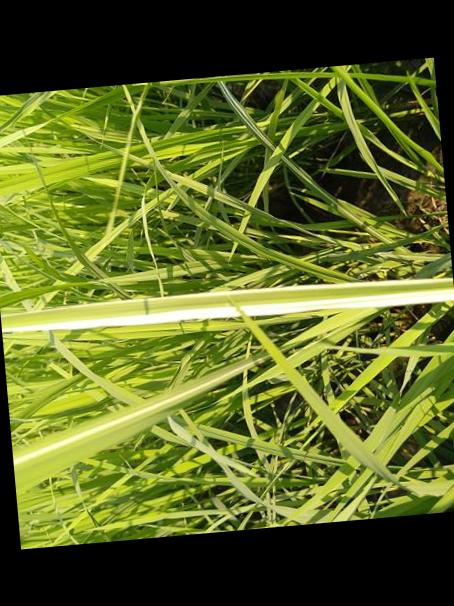Leaf Blight: (1, 276, 454, 334)
